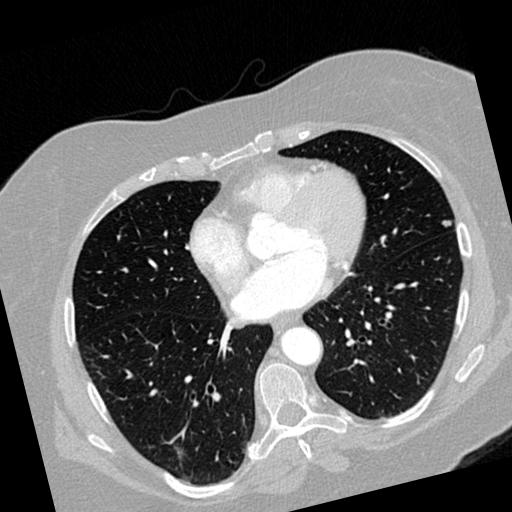nodule: (439, 216, 455, 232)
